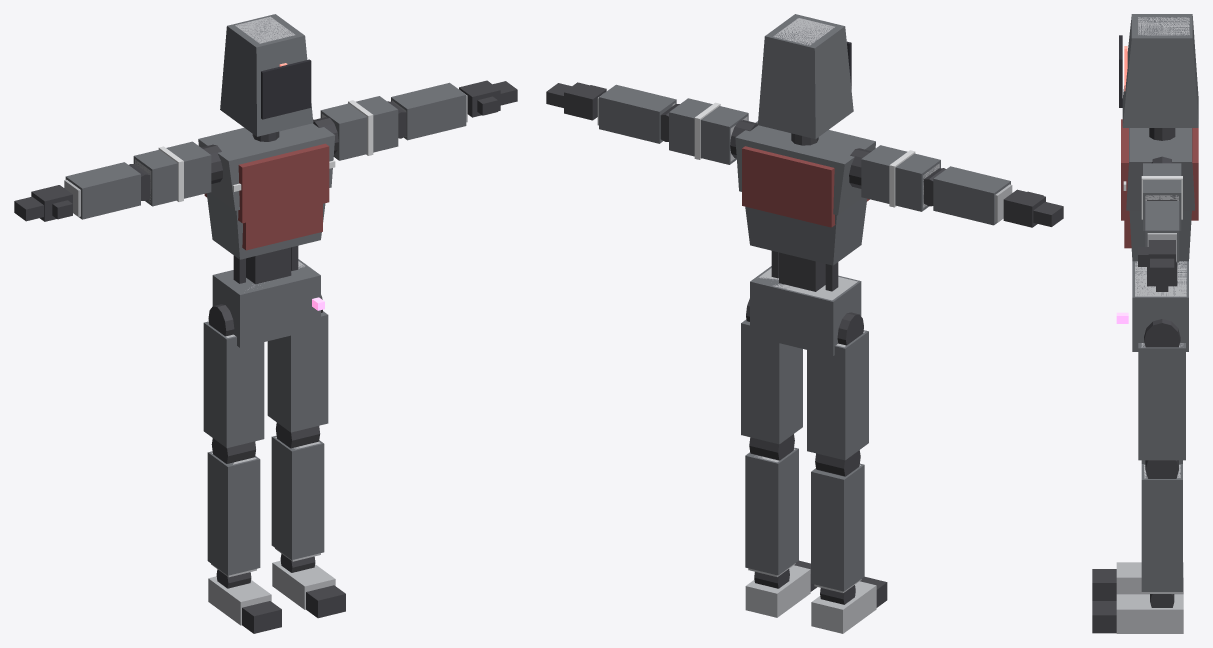
The model's file is char_F2_pilot.glb.
The picture shows the model from 3 angles, left to right: view 1: azimuth 30°, elevation 25°; view 2: azimuth 150°, elevation 25°; view 3: azimuth 270°, elevation 25°; orthographic projection. The views are drawn at different scales.
Visible parts, largest first — view 1: UpperChest_mesh, Head_mesh, RightUpperLeg_mesh, RightLowerLeg_mesh, LeftLowerLeg_mesh, Hips_mesh, LeftUpperLeg_mesh, Chest_mesh, RightUpperArm_mesh, RightLowerArm_mesh, LeftUpperArm_mesh, LeftLowerArm_mesh (+7 smaller); view 2: UpperChest_mesh, Head_mesh, RightUpperLeg_mesh, LeftLowerLeg_mesh, RightLowerLeg_mesh, Hips_mesh, LeftUpperLeg_mesh, Chest_mesh, RightLowerArm_mesh, RightUpperArm_mesh, LeftUpperArm_mesh, LeftLowerArm_mesh (+5 smaller); view 3: Head_mesh, LeftUpperLeg_mesh, LeftLowerLeg_mesh, UpperChest_mesh, Hips_mesh, LeftFoot_mesh, LeftUpperArm_mesh, LeftLowerArm_mesh, Chest_mesh, LeftHand_mesh, RightFoot_mesh, LeftToes_mesh (+3 smaller).
Boxes of the visible parts, x1,y1,x2,y2 form: UpperChest_mesh: (198, 119, 335, 223); Head_mesh: (220, 14, 313, 136); RightUpperLeg_mesh: (203, 304, 264, 447); RightLowerLeg_mesh: (207, 438, 260, 577); LeftLowerLeg_mesh: (271, 422, 324, 561); Hips_mesh: (212, 259, 320, 347); LeftUpperLeg_mesh: (267, 295, 328, 432); Chest_mesh: (206, 192, 325, 259); RightUpperArm_mesh: (133, 141, 211, 206); RightLowerArm_mesh: (64, 162, 150, 219); LeftUpperArm_mesh: (320, 96, 398, 160); LeftLowerArm_mesh: (387, 82, 467, 140); UpperChest_mesh: (735, 121, 875, 227); Head_mesh: (758, 14, 853, 139); RightUpperLeg_mesh: (807, 312, 868, 460); LeftLowerLeg_mesh: (745, 434, 798, 576); RightLowerLeg_mesh: (811, 450, 864, 592); Hips_mesh: (750, 266, 861, 355); LeftUpperLeg_mesh: (741, 298, 802, 444); Chest_mesh: (745, 197, 867, 265); RightLowerArm_mesh: (923, 166, 1012, 225); RightUpperArm_mesh: (861, 145, 940, 211); LeftUpperArm_mesh: (669, 98, 748, 164); LeftLowerArm_mesh: (597, 84, 679, 143); Head_mesh: (1119, 14, 1198, 127); LeftUpperLeg_mesh: (1138, 319, 1185, 460); LeftLowerLeg_mesh: (1141, 460, 1182, 593); UpperChest_mesh: (1121, 119, 1198, 220); Hips_mesh: (1132, 261, 1188, 351); LeftFoot_mesh: (1116, 594, 1183, 633); LeftUpperArm_mesh: (1141, 163, 1182, 230); LeftLowerArm_mesh: (1145, 200, 1179, 262); Chest_mesh: (1124, 210, 1191, 261); LeftHand_mesh: (1138, 240, 1175, 279); RightFoot_mesh: (1116, 562, 1183, 594); LeftToes_mesh: (1092, 601, 1116, 633).
Size of the model in its own units: 1.69 by 1.86 by 0.308.
